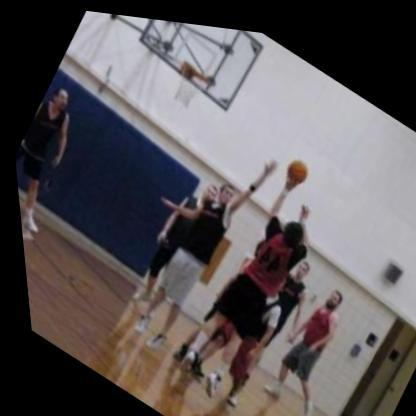basketball: (273, 142, 314, 186)
